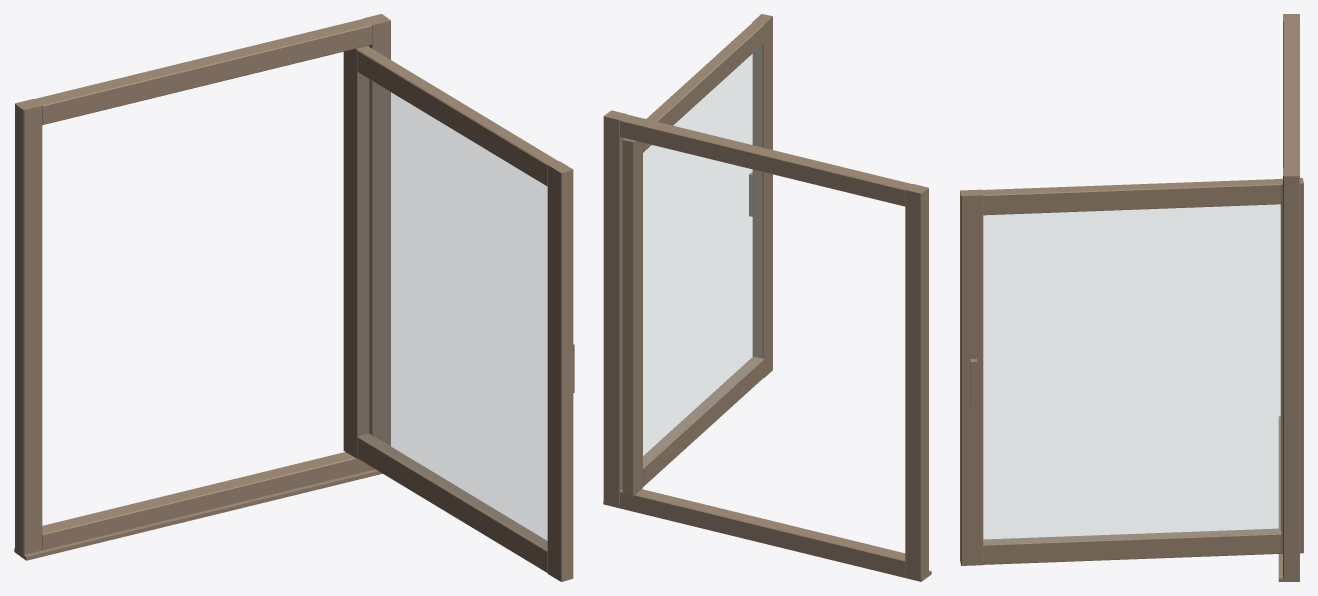
Rendered from bt-S53RP-1-ouvert-quartz-1019.glb.
3 views of the same model, side by side, from view 1: azimuth 30°, elevation 25°; view 2: azimuth 150°, elevation 25°; view 3: azimuth 270°, elevation 25° (orthographic). The views are drawn at different scales.
Visible parts, largest first — view 1: structure, verre; view 2: structure, verre; view 3: verre, structure.
Boxes of the visible parts, bbox=[...] form: structure: bbox=[14, 14, 574, 581]; verre: bbox=[359, 73, 547, 549]; structure: bbox=[603, 14, 931, 581]; verre: bbox=[643, 45, 762, 466]; verre: bbox=[983, 204, 1281, 543]; structure: bbox=[960, 14, 1303, 581].
Size of the model in its own units: 1.23 by 1.4 by 1.08.
